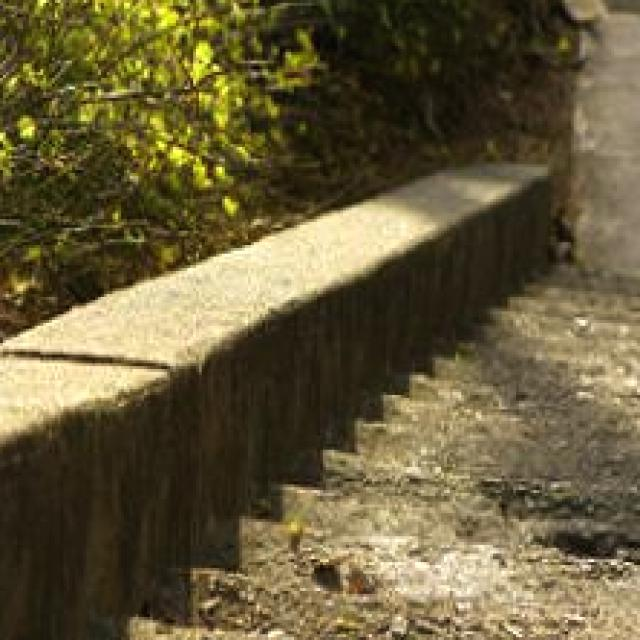upstair: (307, 364, 627, 615)
